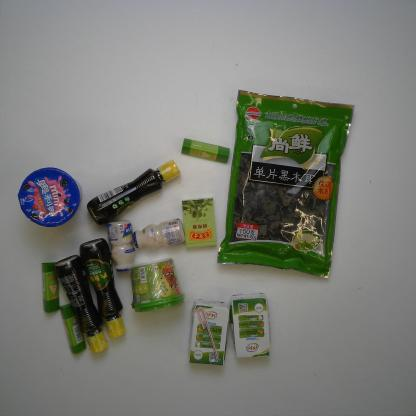Candy: (181, 196, 217, 250)
Dessert: (17, 166, 81, 226)
Dried Food: (220, 86, 356, 283)
Instant Drink: (128, 258, 186, 312)
Milk: (186, 299, 231, 365), (230, 294, 272, 359), (131, 219, 186, 249), (108, 220, 134, 272)
Seasoner: (88, 159, 180, 226), (56, 255, 109, 354), (78, 238, 127, 340)
Stationery: (60, 303, 85, 354), (181, 137, 231, 162), (40, 261, 60, 314)
